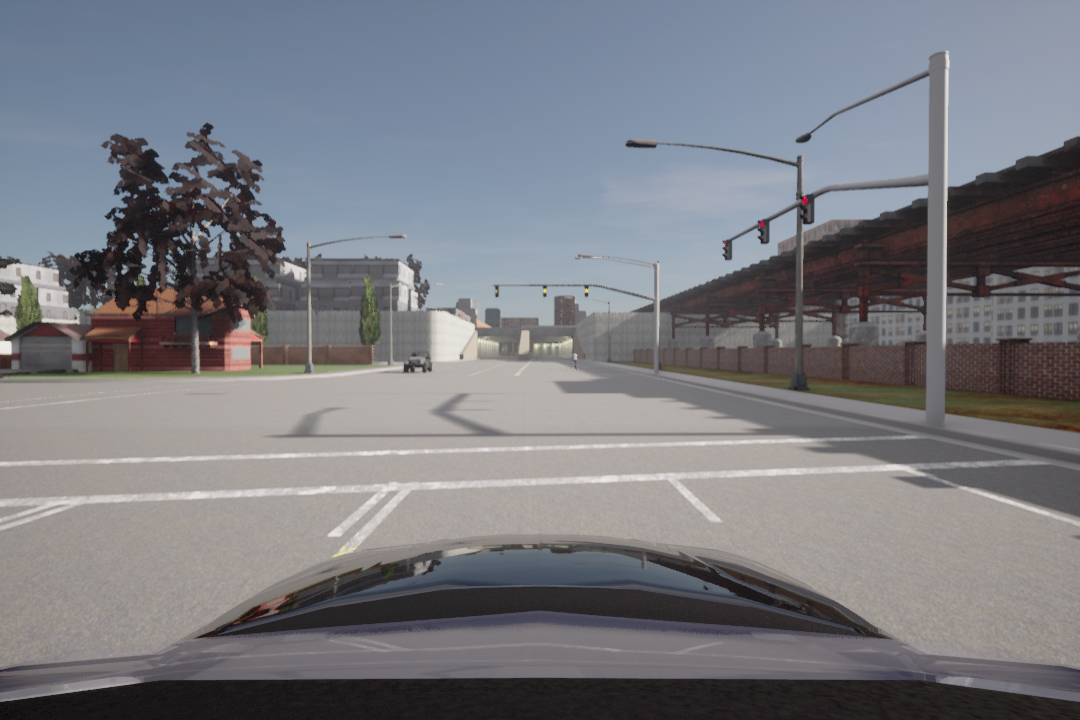TrafficLight: (798, 194, 818, 225), (754, 217, 771, 244), (720, 237, 734, 261), (541, 284, 550, 298), (491, 284, 500, 297), (583, 284, 589, 296)
